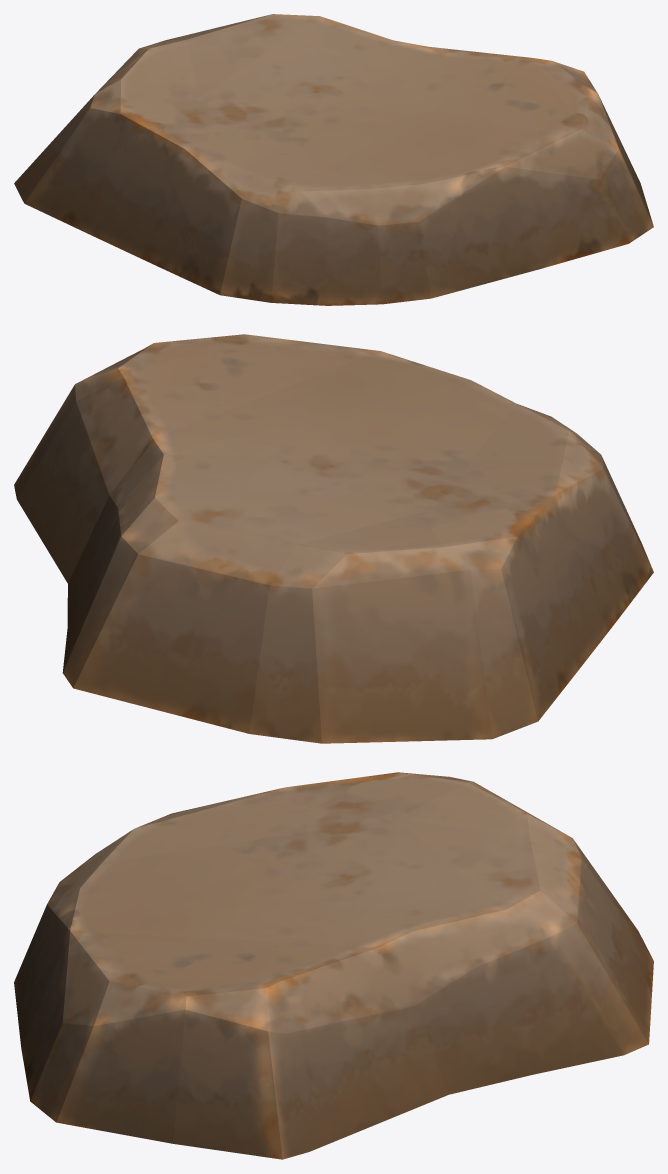
File: DesertPebble_Round_2.obj
3 renders of one model, top to bottom at view 1: azimuth 30°, elevation 25°; view 2: azimuth 150°, elevation 25°; view 3: azimuth 270°, elevation 25°, orthographic. The views are drawn at different scales.
Parts seen in each view (by area): view 1: DesertPebble_Round_2; view 2: DesertPebble_Round_2; view 3: DesertPebble_Round_2.
Boxes of the visible parts, x1,y1,x2,y2 form: DesertPebble_Round_2: [14, 14, 653, 305]; DesertPebble_Round_2: [14, 334, 653, 743]; DesertPebble_Round_2: [14, 772, 653, 1159].
Bounding box in the file's own units: 0.4495 × 0.0942 × 0.4111.
1 material, 1 textured.
